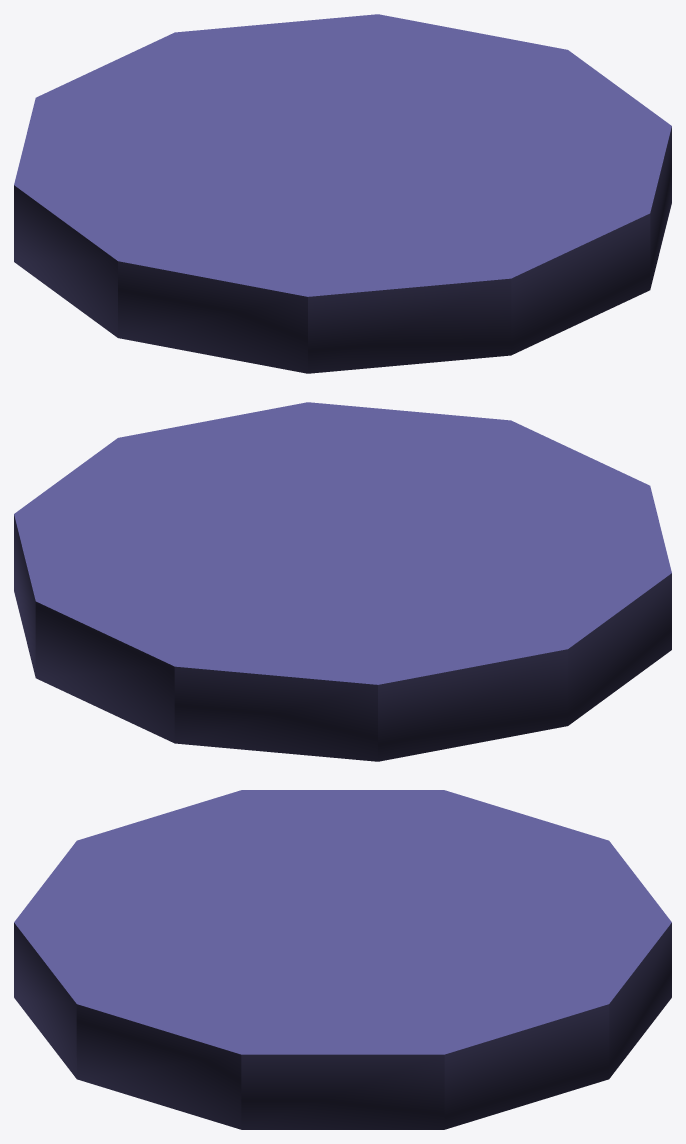
Rendered from Manholecover.FBX.
3 views of the same model, one above another, from view 1: azimuth 30°, elevation 25°; view 2: azimuth 150°, elevation 25°; view 3: azimuth 270°, elevation 25° (orthographic). The views are drawn at different scales.
Parts seen in each view (by area): view 1: CG_Prop_Manholecover_00.002; view 2: CG_Prop_Manholecover_00.002; view 3: CG_Prop_Manholecover_00.002.
Part boxes in pixels (<box>): CG_Prop_Manholecover_00.002: <box>14,14,671,373</box>; CG_Prop_Manholecover_00.002: <box>14,402,671,761</box>; CG_Prop_Manholecover_00.002: <box>14,790,671,1129</box>.
Size of the model in its own units: 491 by 65.12 by 516.
